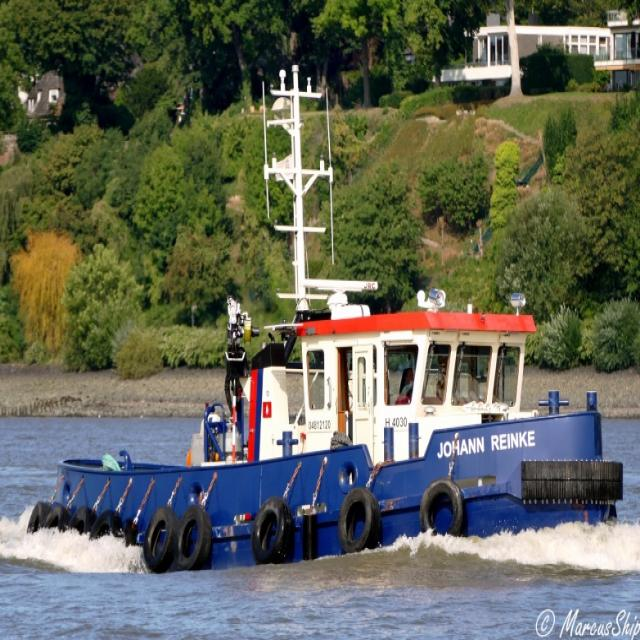tugboat: (18, 57, 631, 586)
